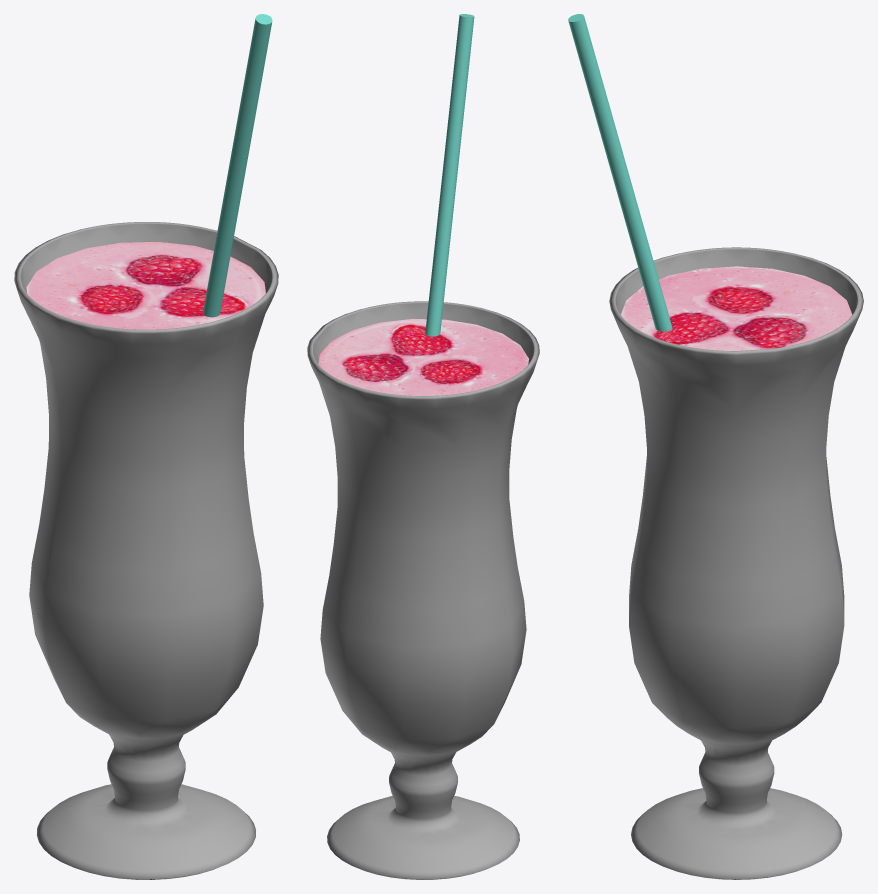
The model's file is LICUADO_CHECKED.fbx.
3 renders of one model, left to right at view 1: azimuth 30°, elevation 25°; view 2: azimuth 150°, elevation 25°; view 3: azimuth 270°, elevation 25°, orthographic. The views are drawn at different scales.
Parts seen in each view (by area): view 1: nurbsToPoly1, revolvedSurface2; view 2: nurbsToPoly1, revolvedSurface2; view 3: nurbsToPoly1, revolvedSurface2.
Boxes of the visible parts, x1,y1,x2,y2 form: nurbsToPoly1: (14,222,278,879); revolvedSurface2: (26,14,272,329); nurbsToPoly1: (307,301,539,879); revolvedSurface2: (318,14,528,395); nurbsToPoly1: (609,247,863,879); revolvedSurface2: (568,14,852,350).
Size of the model in its own units: 7 by 25.51 by 8.14.
